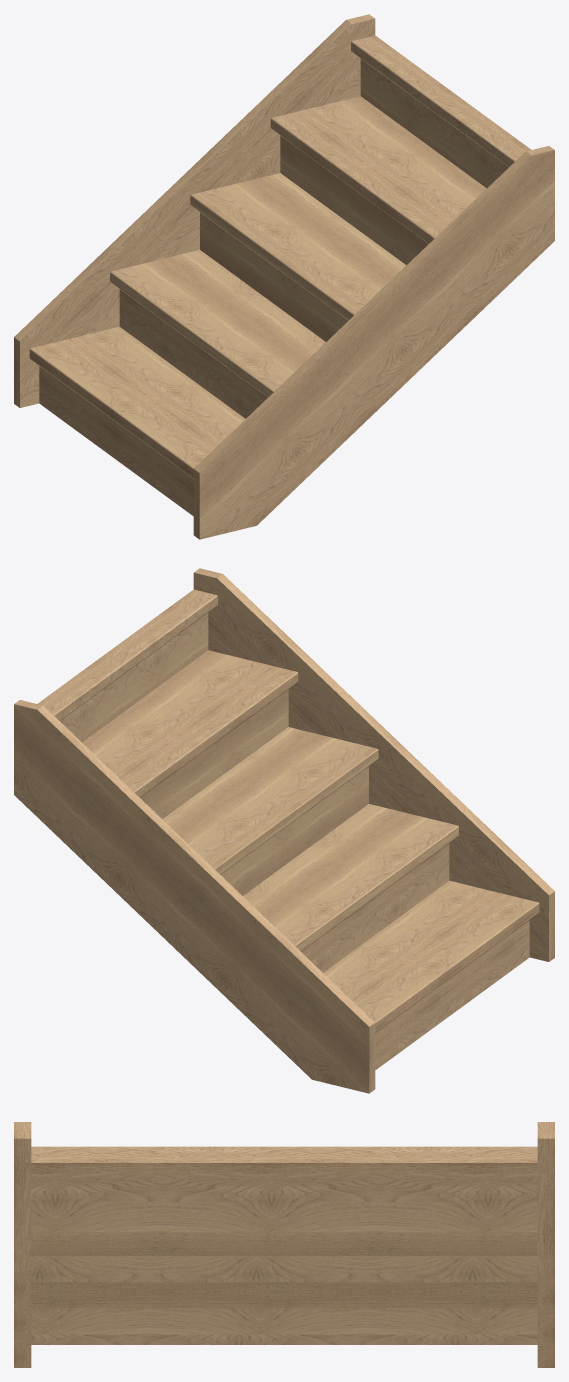
The model's file is stssair.fbx.
3 renders of one model, top to bottom at view 1: azimuth 30°, elevation 25°; view 2: azimuth 150°, elevation 25°; view 3: azimuth 270°, elevation 25°, orthographic. The views are drawn at different scales.
Parts seen in each view (by area): view 1: _x0023_TREADcon_ash.jpg1111, _x0023_STRINGcon_ash.jpg1111, _x0023_RISERcon_ash.jpg1111; view 2: _x0023_TREADcon_ash.jpg1111, _x0023_STRINGcon_ash.jpg1111, _x0023_RISERcon_ash.jpg1111; view 3: _x0023_RISERcon_ash.jpg1111, _x0023_TREADcon_ash.jpg1111, _x0023_STRINGcon_ash.jpg1111.
Part boxes in pixels (left/top/right/bottom): _x0023_TREADcon_ash.jpg1111: left=29, top=35, right=531, bottom=478; _x0023_STRINGcon_ash.jpg1111: left=14, top=14, right=554, bottom=539; _x0023_RISERcon_ash.jpg1111: left=39, top=59, right=508, bottom=515; _x0023_TREADcon_ash.jpg1111: left=37, top=589, right=539, bottom=1032; _x0023_STRINGcon_ash.jpg1111: left=14, top=568, right=554, bottom=1093; _x0023_RISERcon_ash.jpg1111: left=60, top=613, right=529, bottom=1069; _x0023_RISERcon_ash.jpg1111: left=31, top=1178, right=537, bottom=1344; _x0023_TREADcon_ash.jpg1111: left=24, top=1146, right=544, bottom=1178; _x0023_STRINGcon_ash.jpg1111: left=14, top=1122, right=554, bottom=1367.
Bounding box in the file's own units: 111 × 90 × 100.
